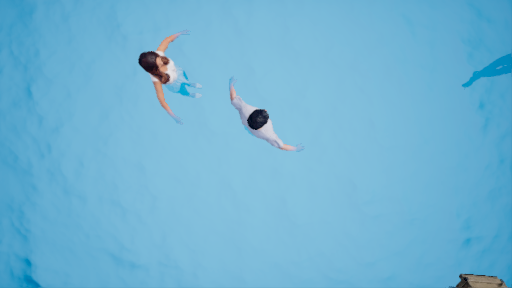person: (143, 28, 212, 125), (232, 82, 306, 165)
